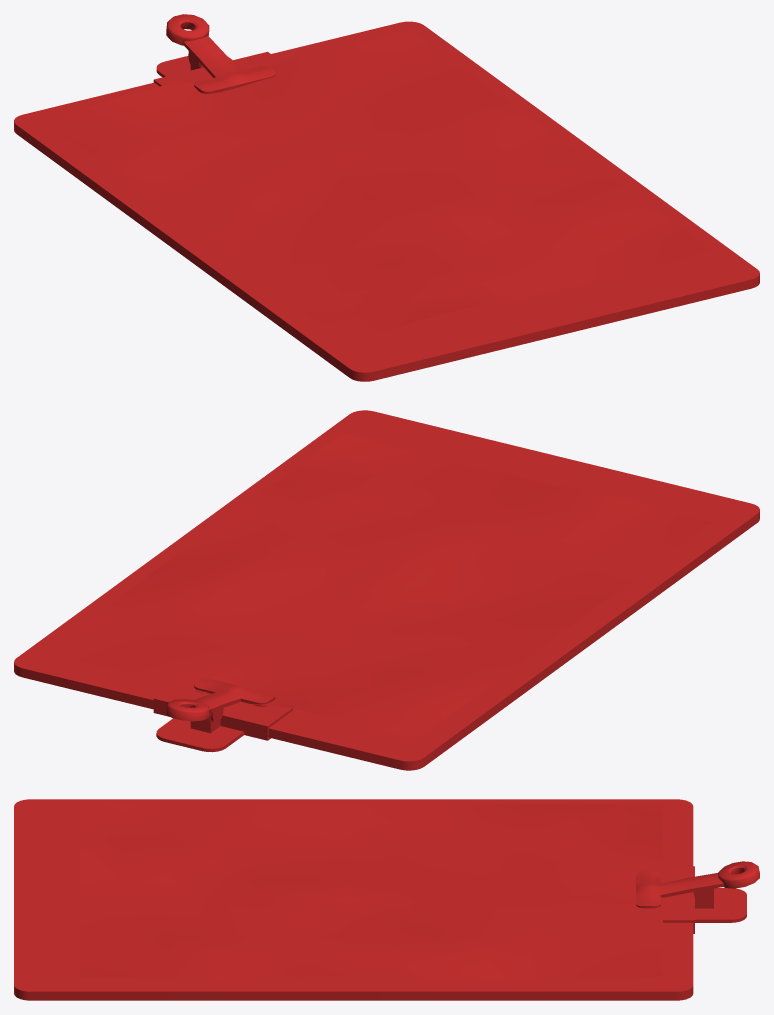
Rendered from Menu.fbx.
3 views of the same model, one above another, from view 1: azimuth 30°, elevation 25°; view 2: azimuth 150°, elevation 25°; view 3: azimuth 270°, elevation 25° (orthographic). The views are drawn at different scales.
Parts seen in each view (by area): view 1: Menu; view 2: Menu; view 3: Menu.
Part boxes in pixels (<box>): Menu: <box>14,14,759,381</box>; Menu: <box>14,410,759,770</box>; Menu: <box>14,799,759,1000</box>.
Bounding box in the file's own units: 23.21 × 2.26 × 38.01.
